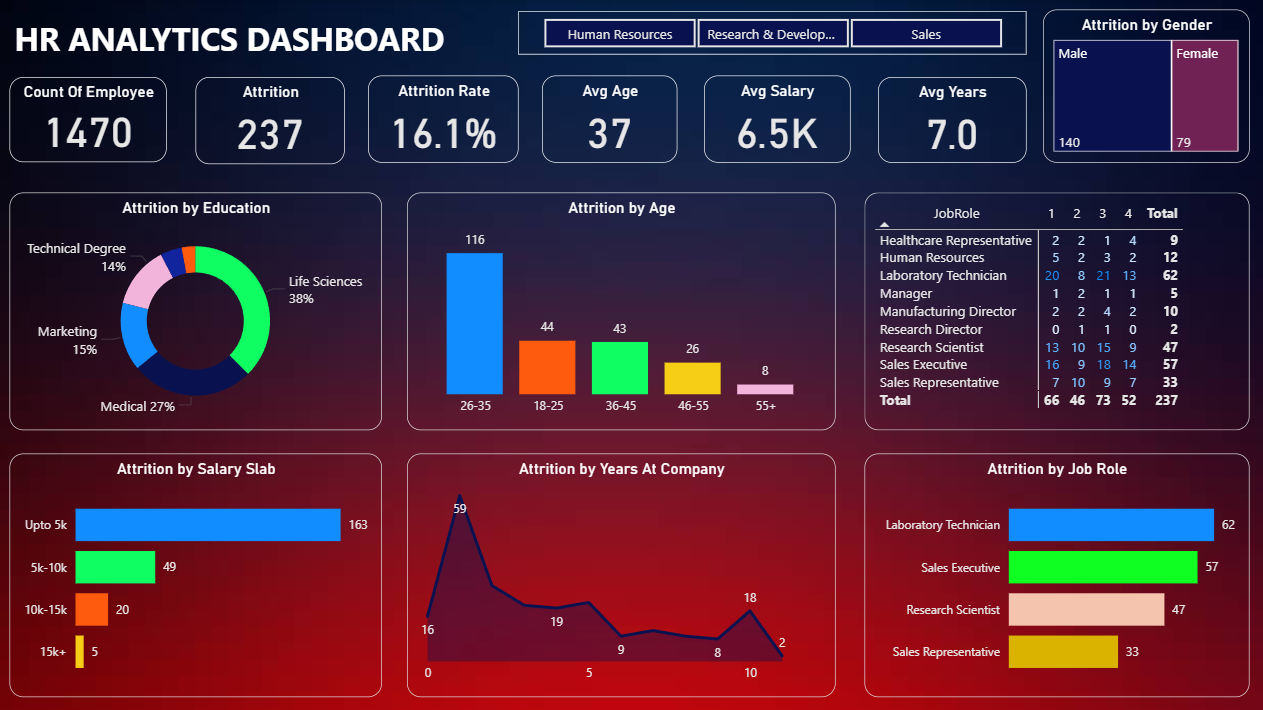

This screenshot's page, from the dashboard's own definition file:
{"tool":"powerbi","page":{"name":"Page 1","canvas":[1280,720],"ordinal":0},"visuals":[{"type":"donutChart","title":"Attrition by Education","fields":{"Category":["HR_Analytics.EducationField"],"Y":["Sum(HR_Analytics.AttritionCount)"]},"box":[14.2,195.8,375.8,240],"z":0},{"type":"card","title":"Count Of Employee","fields":{"Values":["CountNonNull(HR_Analytics.EmpID)"]},"box":[13.6,78.7,159,86.3],"z":1000},{"type":"card","title":"Attrition","fields":{"Values":["Sum(HR_Analytics.AttritionCount)"]},"box":[201.5,78.5,150.8,87.7],"z":2000},{"type":"card","title":"Attrition Rate","fields":{"Values":["HR_Analytics.AttritionRate"]},"box":[375.4,76.9,152.3,87.7],"z":3000},{"type":"card","title":"Avg Years","fields":{"Values":["Avg(HR_Analytics.YearsAtCompany)"]},"box":[890.5,78.9,150,86.8],"z":4000},{"type":"card","title":"Avg Salary","fields":{"Values":["Avg(HR_Analytics.MonthlyIncome)"]},"box":[715.4,76.9,147.7,87.7],"z":5000},{"type":"card","title":"Avg Age","fields":{"Values":["Avg(HR_Analytics.Age)"]},"box":[550.8,76.9,136.9,87.7],"z":6000},{"type":"columnChart","title":"Attrition by Age","fields":{"Category":["HR_Analytics.AgeGroup"],"Y":["Sum(HR_Analytics.AttritionCount)"]},"box":[415.3,195.8,432.6,240],"z":7000},{"type":"pivotTable","fields":{"Rows":["HR_Analytics.JobRole"],"Columns":["HR_Analytics.JobSatisfaction"],"Values":["Sum(HR_Analytics.AttritionCount)"]},"box":[876.3,195.8,388.4,240],"z":8000},{"type":"barChart","title":"Attrition by Salary Slab","fields":{"Category":["HR_Analytics.SalarySlab"],"Y":["Sum(HR_Analytics.AttritionCount)"]},"box":[14.2,459.5,375.8,246.3],"z":9000},{"type":"barChart","title":"Attrition by Job Role","fields":{"Y":["Sum(HR_Analytics.AttritionCount)"],"Category":["HR_Analytics.JobRole"]},"box":[876.3,459.5,388.4,246.3],"z":10000},{"type":"areaChart","title":"Attrition by Years At Company","fields":{"Category":["HR_Analytics.YearsAtCompany"],"Y":["Sum(HR_Analytics.AttritionCount)"]},"box":[415.3,459.5,432.6,246.3],"z":11000},{"type":"treemap","title":"Attrition by Gender","fields":{"Group":["HR_Analytics.Gender"],"Values":["Sum(HR_Analytics.AttritionCount)"]},"box":[1056.3,11.1,208.4,154.7],"z":12000},{"type":"slicer","fields":{"Values":["HR_Analytics.Department"]},"box":[527.4,12.6,513.2,44.2],"z":13000},{"type":"textbox","box":[14.2,12.6,495.8,55.3],"z":14000}]}

Visuals, with their boxes in screenshot pixels (x1, y1, x2, y2), scaled from the page's 1280x720 canvas onto the 1263x710 screenshot:
"Attrition by Education" donutChart: BBox(14, 193, 385, 430)
"Count Of Employee" card: BBox(13, 78, 170, 163)
"Attrition" card: BBox(199, 77, 348, 164)
"Attrition Rate" card: BBox(370, 76, 521, 162)
"Avg Years" card: BBox(879, 78, 1027, 163)
"Avg Salary" card: BBox(706, 76, 852, 162)
"Avg Age" card: BBox(543, 76, 679, 162)
"Attrition by Age" columnChart: BBox(410, 193, 837, 430)
pivotTable - HR_Analytics.JobRole x HR_Analytics.JobSatisfaction: BBox(865, 193, 1248, 430)
"Attrition by Salary Slab" barChart: BBox(14, 453, 385, 696)
"Attrition by Job Role" barChart: BBox(865, 453, 1248, 696)
"Attrition by Years At Company" areaChart: BBox(410, 453, 837, 696)
"Attrition by Gender" treemap: BBox(1042, 11, 1248, 163)
slicer - HR_Analytics.Department: BBox(520, 12, 1027, 56)
textbox: BBox(14, 12, 503, 67)
